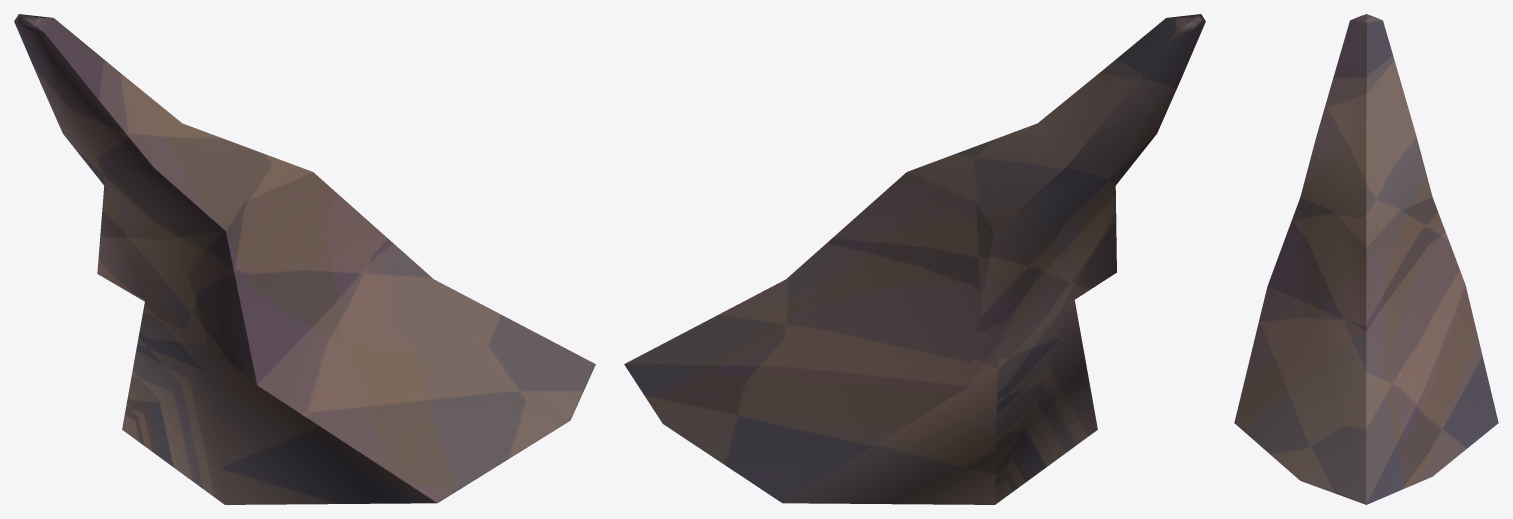
The model's file is rock1.fbx.
3 renders of one model, left to right at view 1: azimuth 30°, elevation 25°; view 2: azimuth 150°, elevation 25°; view 3: azimuth 270°, elevation 25°, orthographic. The views are drawn at different scales.
Parts seen in each view (by area): view 1: pPyramid1; view 2: pPyramid1; view 3: pPyramid1.
Part boxes in pixels (x1=…): pPyramid1: x1=14, y1=14, x2=595, y2=504; pPyramid1: x1=624, y1=14, x2=1205, y2=504; pPyramid1: x1=1234, y1=14, x2=1498, y2=504.
Size of the model in its own units: 7.66 by 6.17 by 4.74.
Materials: 1 (1 with a texture image).
